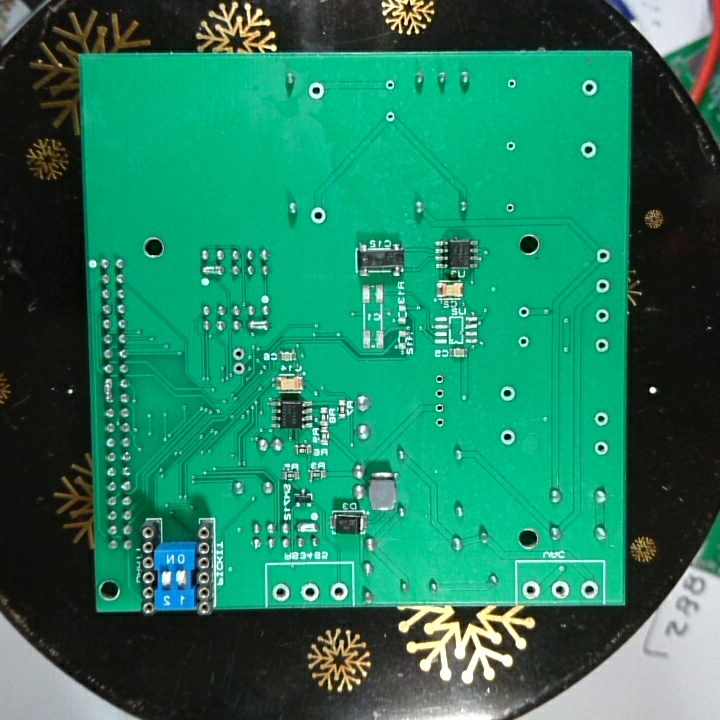F: (269, 580, 294, 603), (299, 580, 322, 603), (328, 581, 351, 603), (578, 579, 602, 600), (549, 580, 574, 600), (520, 580, 543, 601), (579, 76, 599, 99), (498, 427, 519, 448), (305, 80, 326, 101), (308, 204, 329, 225), (578, 140, 600, 160), (498, 384, 518, 405), (593, 410, 613, 430), (594, 247, 614, 266), (593, 335, 612, 355), (592, 438, 610, 459), (593, 307, 612, 326), (594, 276, 612, 295), (514, 334, 533, 351), (230, 361, 248, 378), (230, 345, 247, 362), (515, 303, 531, 320), (433, 416, 449, 432), (503, 139, 519, 154), (382, 78, 397, 93), (383, 109, 397, 125), (503, 200, 517, 215), (504, 77, 518, 92), (433, 372, 448, 386), (432, 401, 447, 415), (433, 389, 448, 400)
P: (101, 376, 116, 406), (294, 519, 320, 536), (246, 318, 273, 334), (199, 263, 227, 278)
